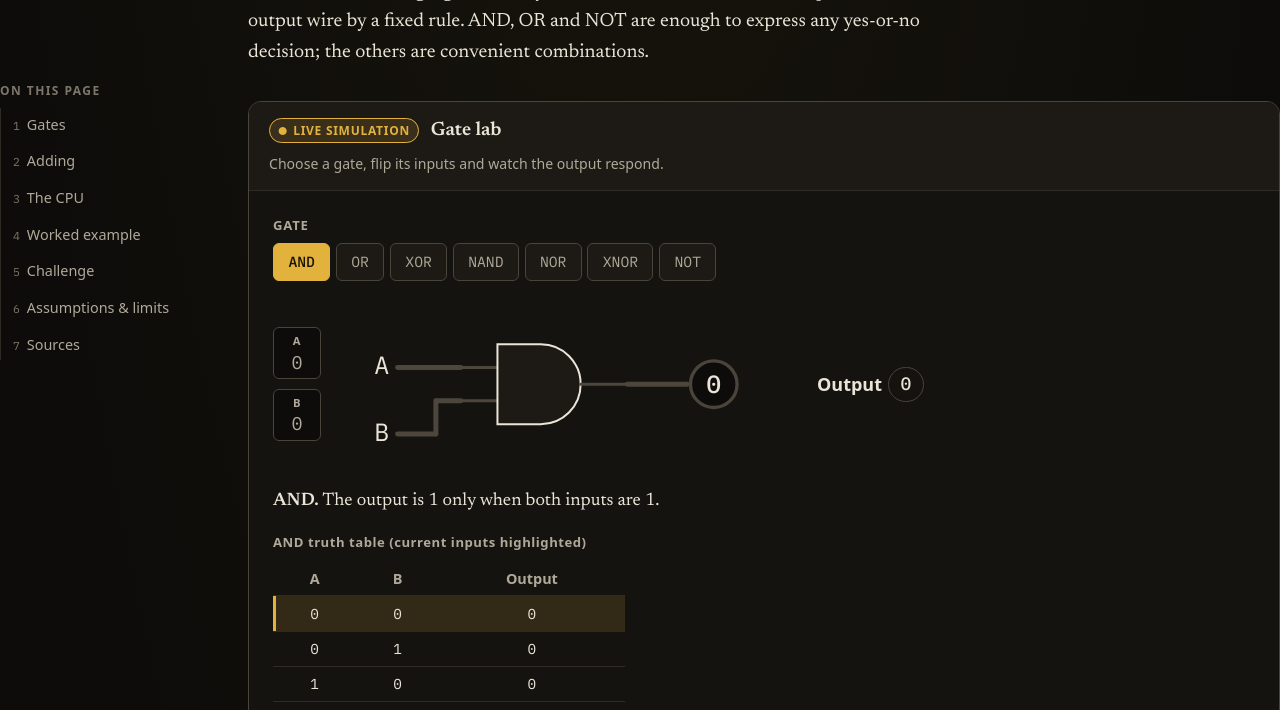
Logic gates → binary adder → miniature CPU › gate lab: toggling input bits changes the output
(page scrolled)
Check: the message shows "0", box [901,372,911,395]
Click the button named "input a": (297, 353) [273,327,321,379]
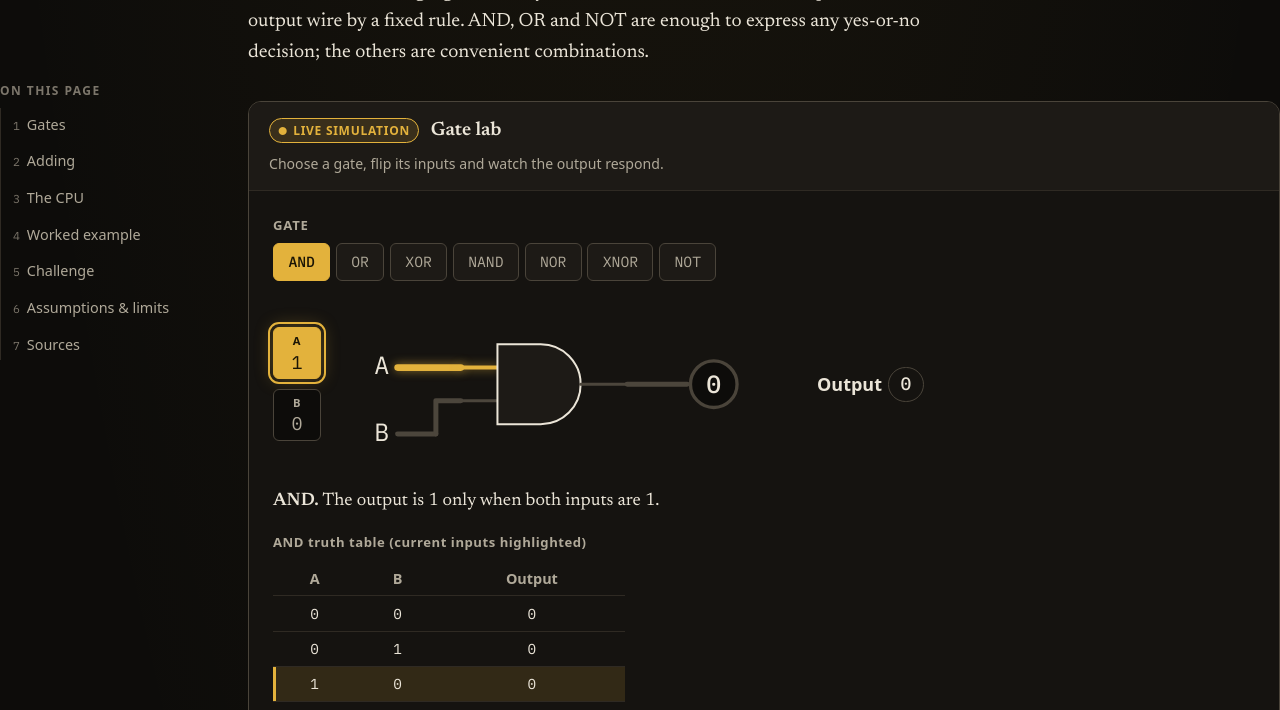
Click the button named "input b": (297, 415) [273,389,321,441]
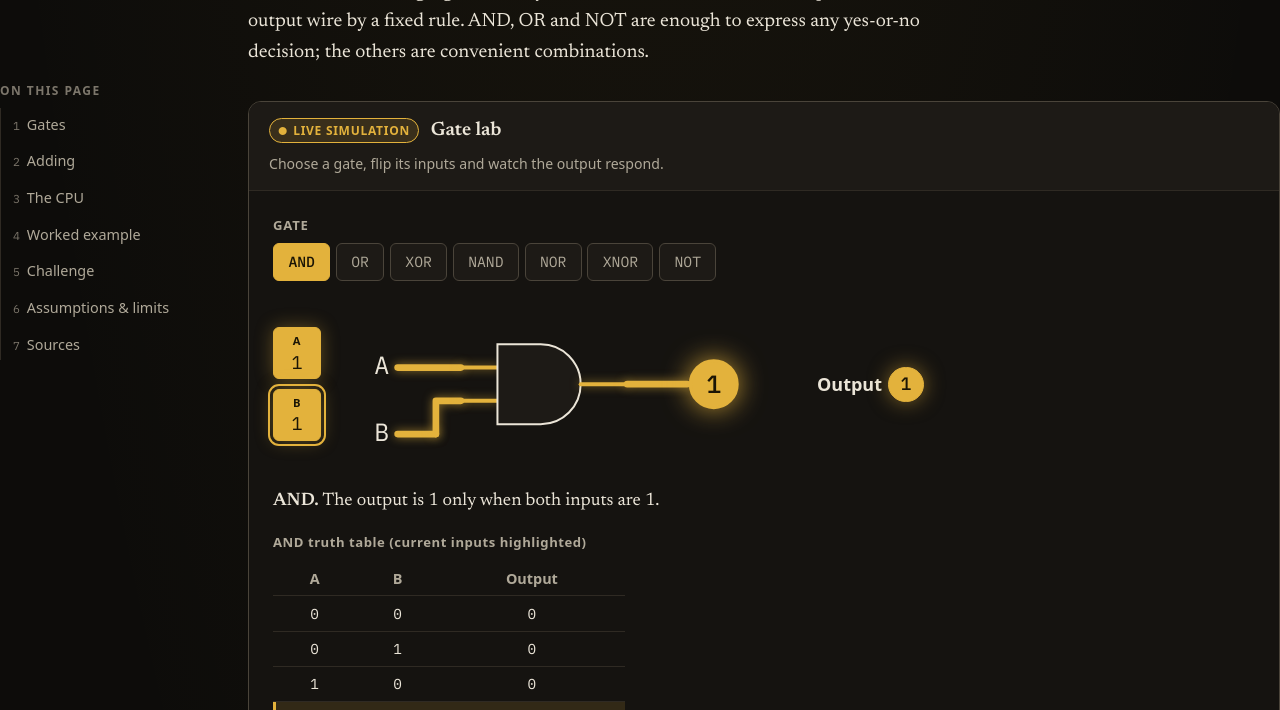
Check: the message shows "1", box [901,372,911,395]
Click the radio button labelled "XOR": (419, 262) [390,242,447,281]
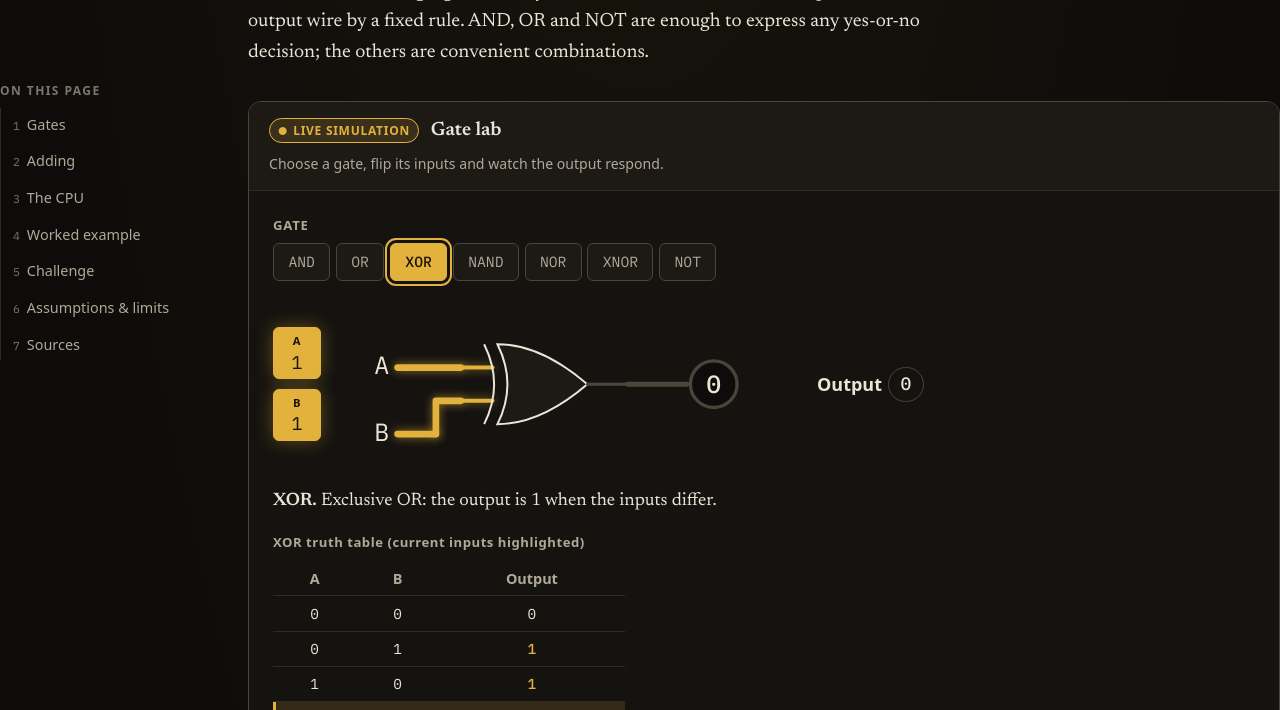
Check: the message shows "0", box [901,372,911,395]
